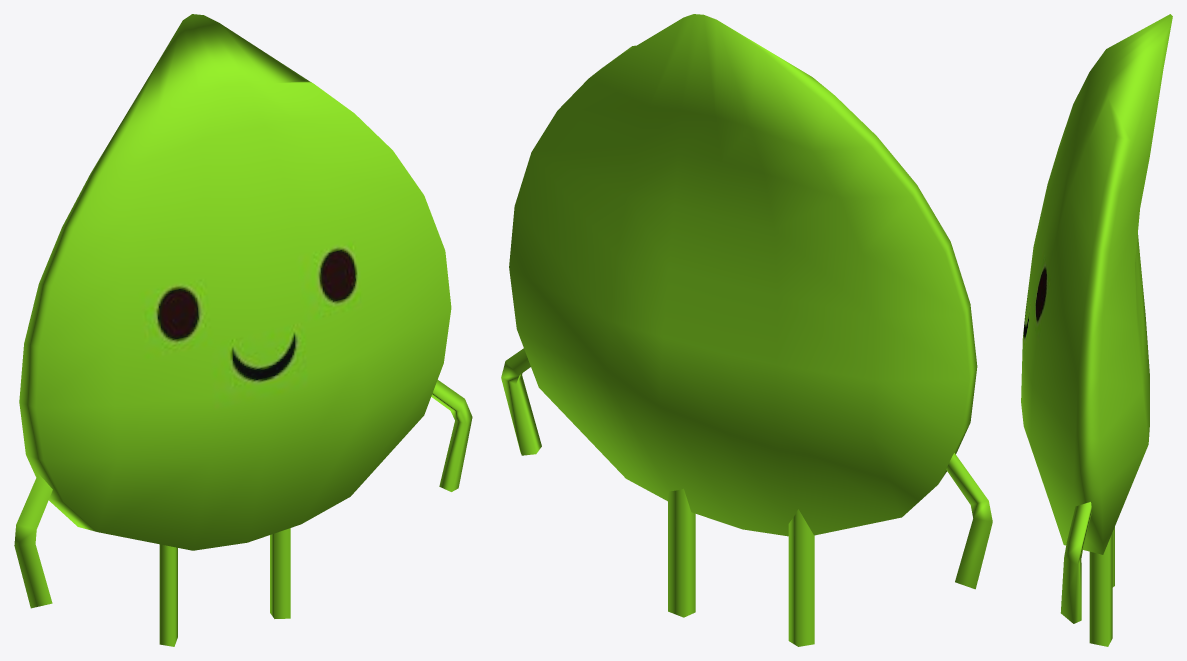
The model's file is EnemyNatureLeafLow.fbx.
3 renders of one model, left to right at view 1: azimuth 30°, elevation 25°; view 2: azimuth 150°, elevation 25°; view 3: azimuth 270°, elevation 25°, orthographic. The views are drawn at different scales.
Parts seen in each view (by area): view 1: EnemyLeaf2; view 2: EnemyLeaf2; view 3: EnemyLeaf2.
Boxes of the visible parts, <box> form: EnemyLeaf2: <box>14,14,472,646</box>; EnemyLeaf2: <box>501,14,992,646</box>; EnemyLeaf2: <box>1021,14,1172,646</box>.
Size of the model in its own units: 1.44 by 1.78 by 0.4098.
